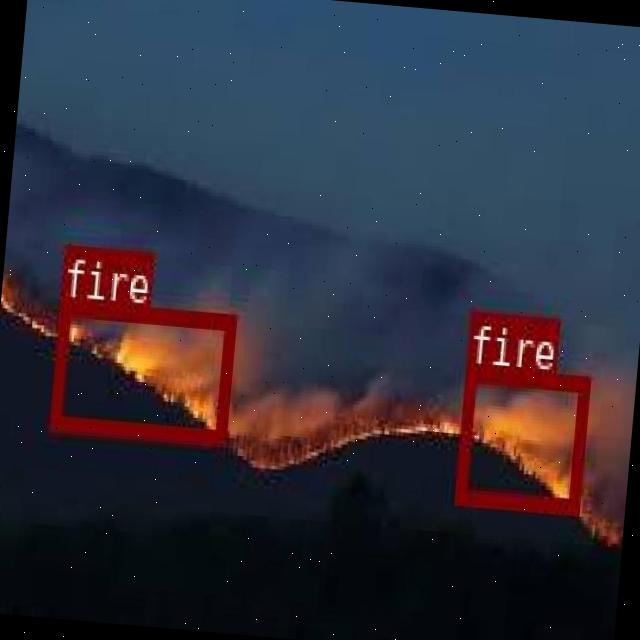fire: (48, 298, 233, 441), (452, 364, 588, 511)
